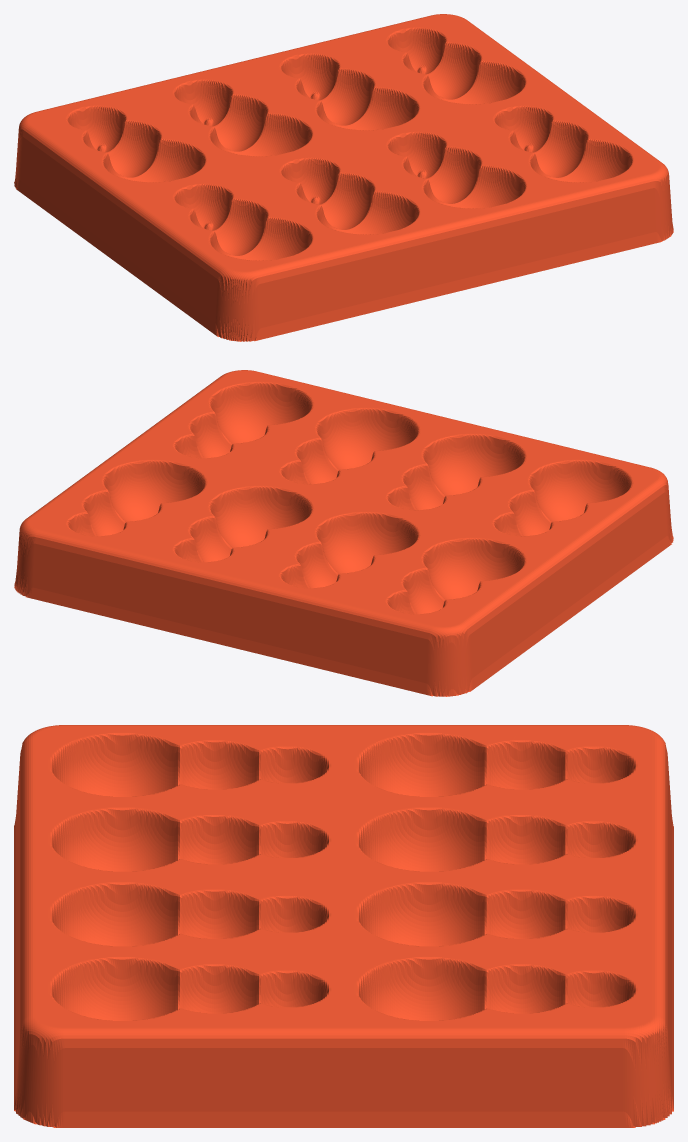
The model's file is mold.glb.
3 views of the same model, one above another, from view 1: azimuth 30°, elevation 25°; view 2: azimuth 150°, elevation 25°; view 3: azimuth 270°, elevation 25° (orthographic). The views are drawn at different scales.
Parts seen in each view (by area): view 1: geometry_0; view 2: geometry_0; view 3: geometry_0.
Boxes of the visible parts, bbox=[...] form: geometry_0: bbox=[14, 14, 673, 341]; geometry_0: bbox=[14, 370, 673, 696]; geometry_0: bbox=[14, 725, 673, 1127].
Size of the model in its own units: 0.1377 by 0.0185 by 0.1206.
